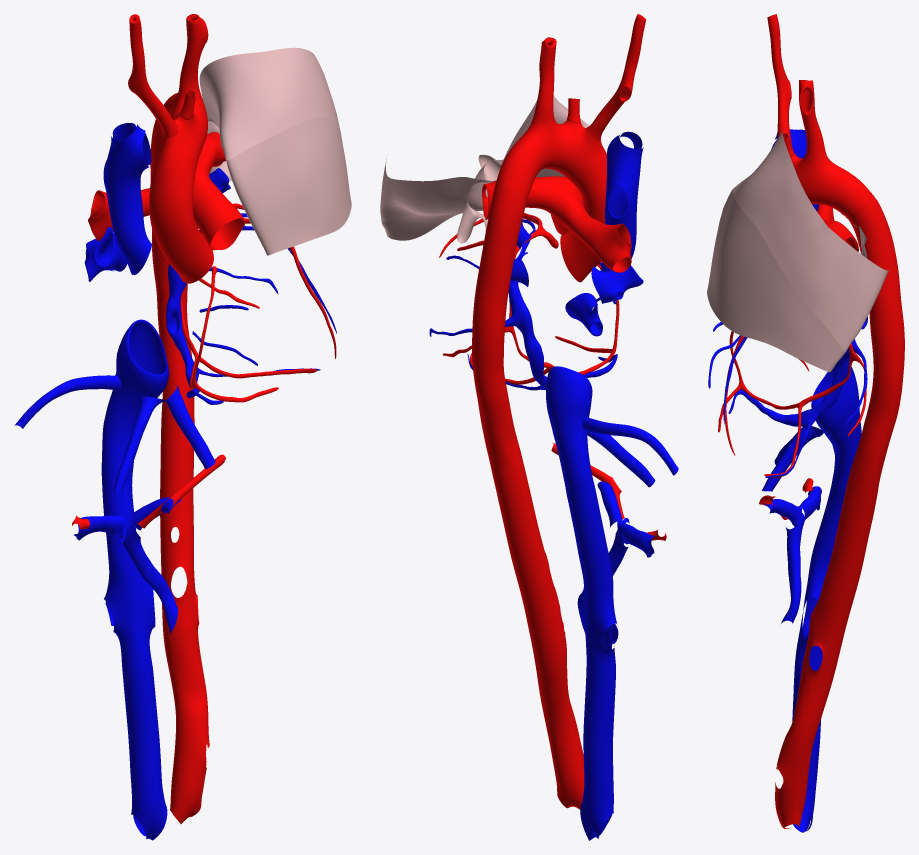
File: female-a-organ-12.glb
The picture shows the model from 3 angles, left to right: view 1: azimuth 30°, elevation 25°; view 2: azimuth 150°, elevation 25°; view 3: azimuth 270°, elevation 25°; orthographic projection. The views are drawn at different scales.
Visible parts, largest first — view 1: VH_F_descending_aorta_b, VH_F_inferior_vena_cava_b, VH_F_lingula_superior_bronchopulmonary_segment, VH_F_left_anterior_bronchopulmonary_segment, VH_F_superior_vena_cava, VH_F_ascending_aorta, VH_F_inferior_vena_cava_a, VH_F_aortic_arch, VH_F_pulmonary_trunk, VH_F_descending_aorta_a, VH_F_hepatic_portal_vein, VH_F_brachiocephalic_artery_b (+11 smaller); view 2: VH_F_descending_aorta_b, VH_F_inferior_vena_cava_b, VH_F_descending_aorta_a, VH_F_aortic_arch, VH_F_left_anterior_bronchopulmonary_segment, VH_F_inferior_vena_cava_a, VH_F_superior_vena_cava, VH_F_pulmonary_artery_R, VH_F_ascending_aorta, VH_F_coronary_sinus, VH_F_brachiocephalic_artery_b, VH_F_lingula_superior_bronchopulmonary_segment (+12 smaller); view 3: VH_F_left_anterior_bronchopulmonary_segment, VH_F_descending_aorta_b, VH_F_lingula_superior_bronchopulmonary_segment, VH_F_descending_aorta_a, VH_F_inferior_vena_cava_b, VH_F_aortic_arch, VH_F_inferior_vena_cava_a, VH_F_brachiocephalic_artery_b, VH_F_hepatic_portal_vein, VH_F_coronary_sinus, VH_F_left_hepatic_vein, VH_F_left_subclavian_artery_b (+7 smaller).
Part boxes in pixels (box(x1,y1,x2,y2)): VH_F_descending_aorta_b: box(160, 379, 209, 823); VH_F_inferior_vena_cava_b: box(101, 404, 167, 840); VH_F_lingula_superior_bronchopulmonary_segment: box(226, 116, 351, 255); VH_F_left_anterior_bronchopulmonary_segment: box(199, 47, 340, 160); VH_F_superior_vena_cava: box(103, 123, 151, 274); VH_F_ascending_aorta: box(149, 167, 213, 283); VH_F_inferior_vena_cava_a: box(108, 319, 168, 423); VH_F_aortic_arch: box(153, 91, 207, 174); VH_F_pulmonary_trunk: box(193, 166, 245, 249); VH_F_descending_aorta_a: box(150, 119, 192, 379); VH_F_hepatic_portal_vein: box(122, 519, 177, 633); VH_F_brachiocephalic_artery_b: box(128, 14, 164, 117); VH_F_descending_aorta_b: box(486, 434, 584, 809); VH_F_inferior_vena_cava_b: box(559, 453, 618, 840); VH_F_descending_aorta_a: box(472, 172, 528, 450); VH_F_aortic_arch: box(499, 120, 606, 194); VH_F_left_anterior_bronchopulmonary_segment: box(380, 96, 588, 224); VH_F_inferior_vena_cava_a: box(546, 366, 592, 456); VH_F_superior_vena_cava: box(601, 131, 643, 271); VH_F_pulmonary_artery_R: box(560, 194, 631, 272); VH_F_ascending_aorta: box(560, 176, 606, 282); VH_F_coronary_sinus: box(508, 281, 547, 390); VH_F_brachiocephalic_artery_b: box(601, 14, 645, 121); VH_F_lingula_superior_bronchopulmonary_segment: box(382, 168, 564, 240); VH_F_left_anterior_bronchopulmonary_segment: box(732, 130, 888, 352); VH_F_descending_aorta_b: box(775, 456, 881, 828); VH_F_lingula_superior_bronchopulmonary_segment: box(707, 189, 844, 372); VH_F_descending_aorta_a: box(847, 195, 904, 474); VH_F_inferior_vena_cava_b: box(792, 440, 859, 832); VH_F_aortic_arch: box(790, 153, 873, 217); VH_F_inferior_vena_cava_a: box(811, 366, 861, 454); VH_F_brachiocephalic_artery_b: box(767, 14, 791, 128); VH_F_hepatic_portal_vein: box(781, 513, 804, 623); VH_F_coronary_sinus: box(805, 339, 856, 426); VH_F_left_hepatic_vein: box(762, 426, 823, 491); VH_F_left_subclavian_artery_b: box(799, 80, 820, 137).
Bounding box in the file's own units: 0.1768 × 0.4605 × 0.1019.
